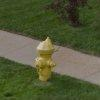a fire hydrant: (34, 38, 61, 80)
